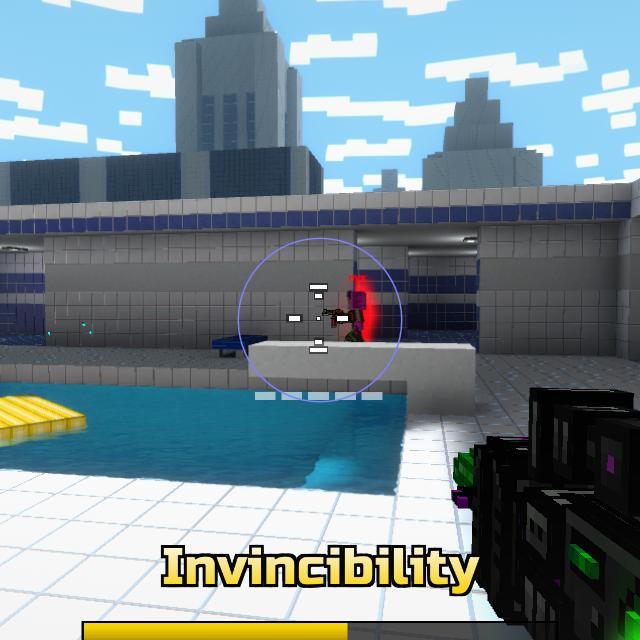Enemy: (338, 292, 367, 342)
